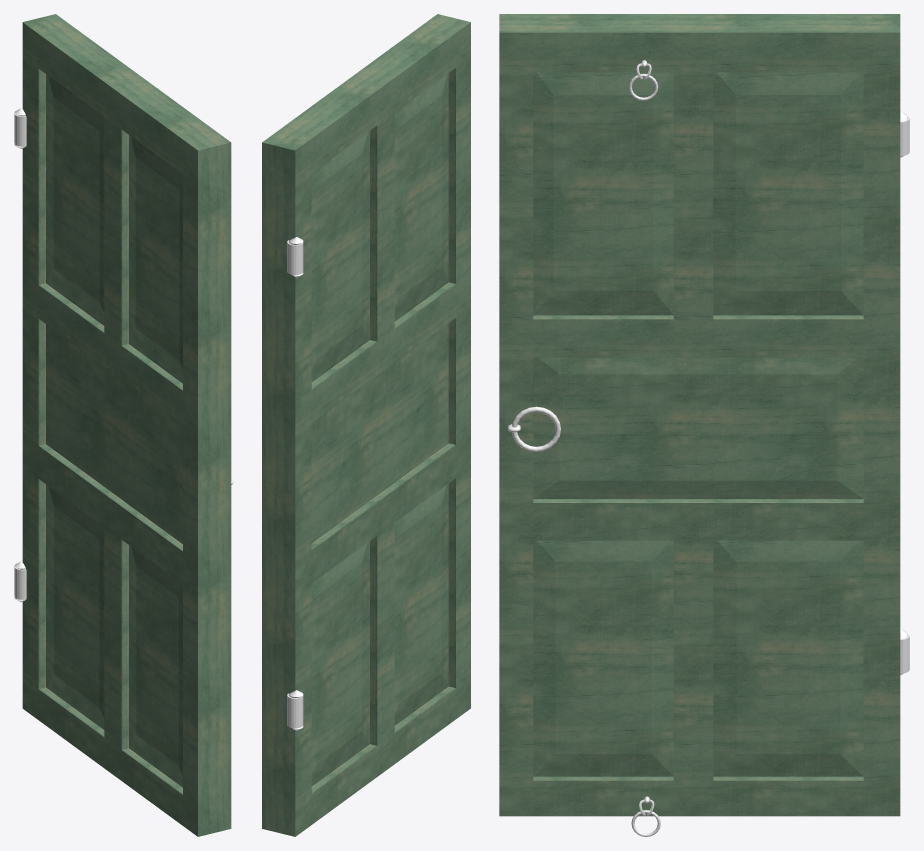
The model's file is SM_WI_Wood_5.fbx.
The picture shows the model from 3 angles, left to right: view 1: azimuth 30°, elevation 25°; view 2: azimuth 150°, elevation 25°; view 3: azimuth 270°, elevation 25°; orthographic projection. The views are drawn at different scales.
Visible parts, largest first — view 1: SM_WI_Wood_5_LOD0; view 2: SM_WI_Wood_5_LOD0; view 3: SM_WI_Wood_5_LOD0.
Part boxes in pixels (left/top/right/bottom): SM_WI_Wood_5_LOD0: left=14, top=14, right=233, bottom=836; SM_WI_Wood_5_LOD0: left=262, top=14, right=470, bottom=836; SM_WI_Wood_5_LOD0: left=499, top=14, right=909, bottom=836.
Size of the model in its own units: 11.15 by 71.96 by 155.
Materials: 2 (2 with a texture image).
